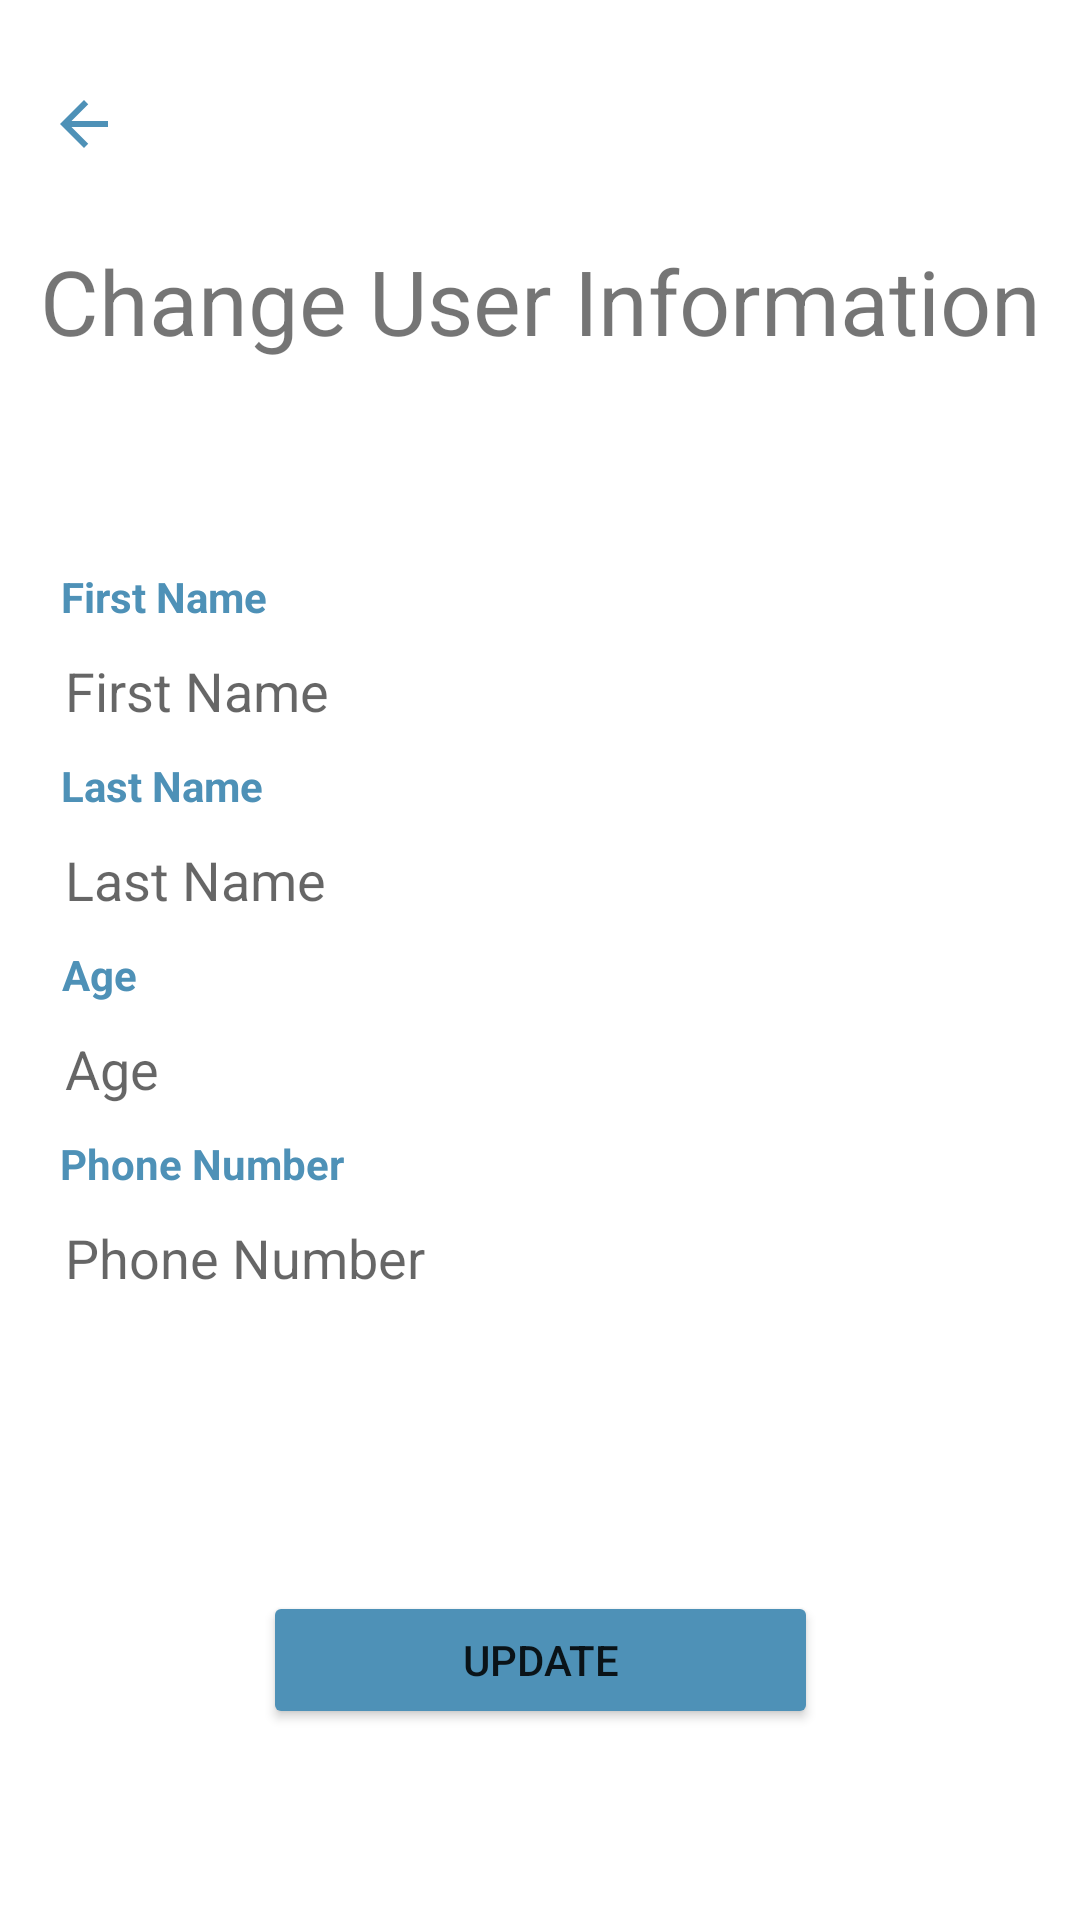

Screen size 1080 x 1920. Icon name, then its center in pixels as point (x, y):
Return to previous page: point (84, 124)
